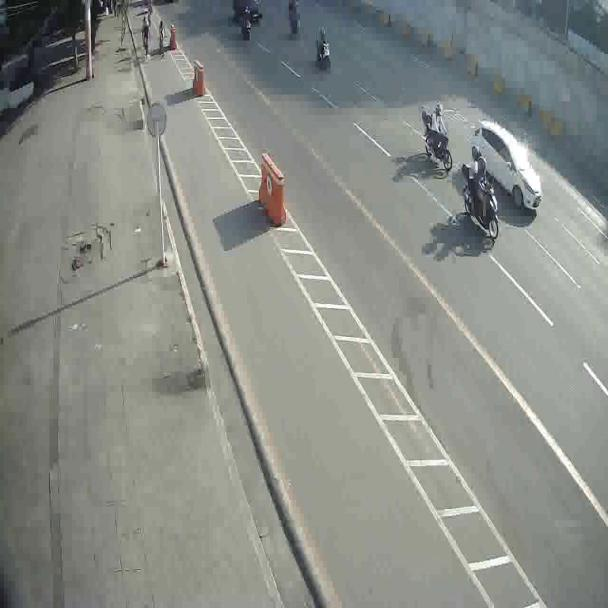motorcyclist: (458, 157, 499, 241), (419, 101, 455, 178), (314, 24, 332, 68)
vehicle: (469, 120, 542, 215)
